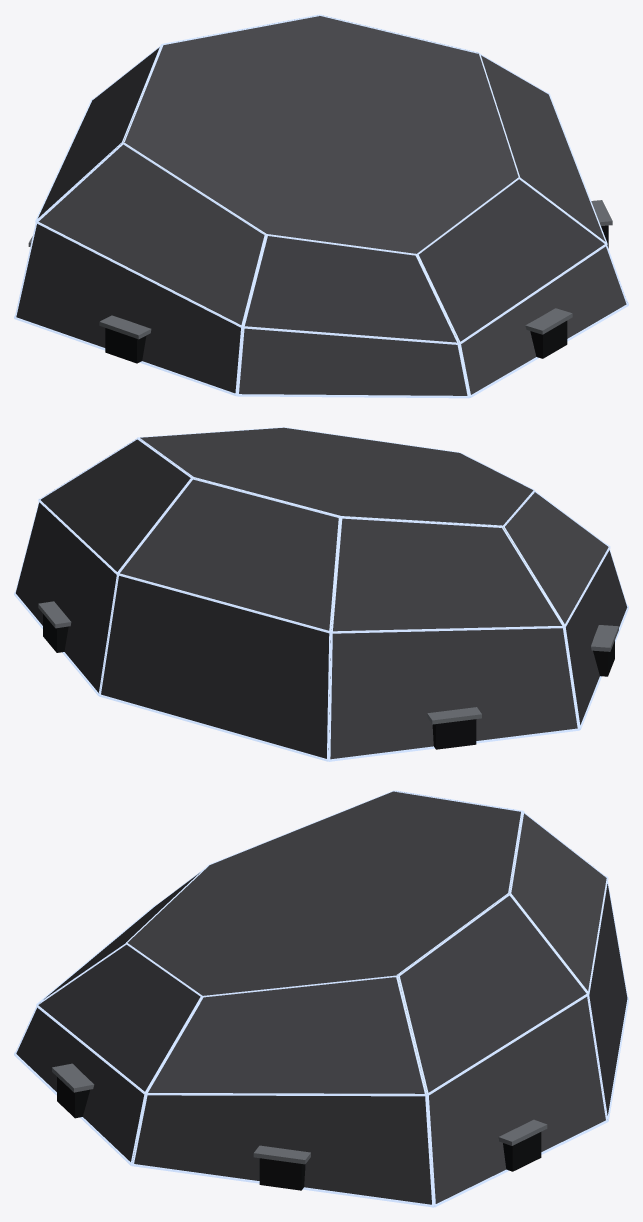
The model's file is dog-stone-arena.glb.
3 renders of one model, top to bottom at view 1: azimuth 30°, elevation 25°; view 2: azimuth 150°, elevation 25°; view 3: azimuth 270°, elevation 25°, orthographic. The views are drawn at different scales.
Visible parts, largest first — view 1: DOG_STONE_ARENA; view 2: DOG_STONE_ARENA; view 3: DOG_STONE_ARENA.
Part boxes in pixels (left/top/right/bottom): DOG_STONE_ARENA: left=14, top=14, right=628, bottom=398; DOG_STONE_ARENA: left=14, top=427, right=628, bottom=761; DOG_STONE_ARENA: left=14, top=790, right=628, bottom=1207.
Size of the model in its own units: 201 by 67.88 by 181.
